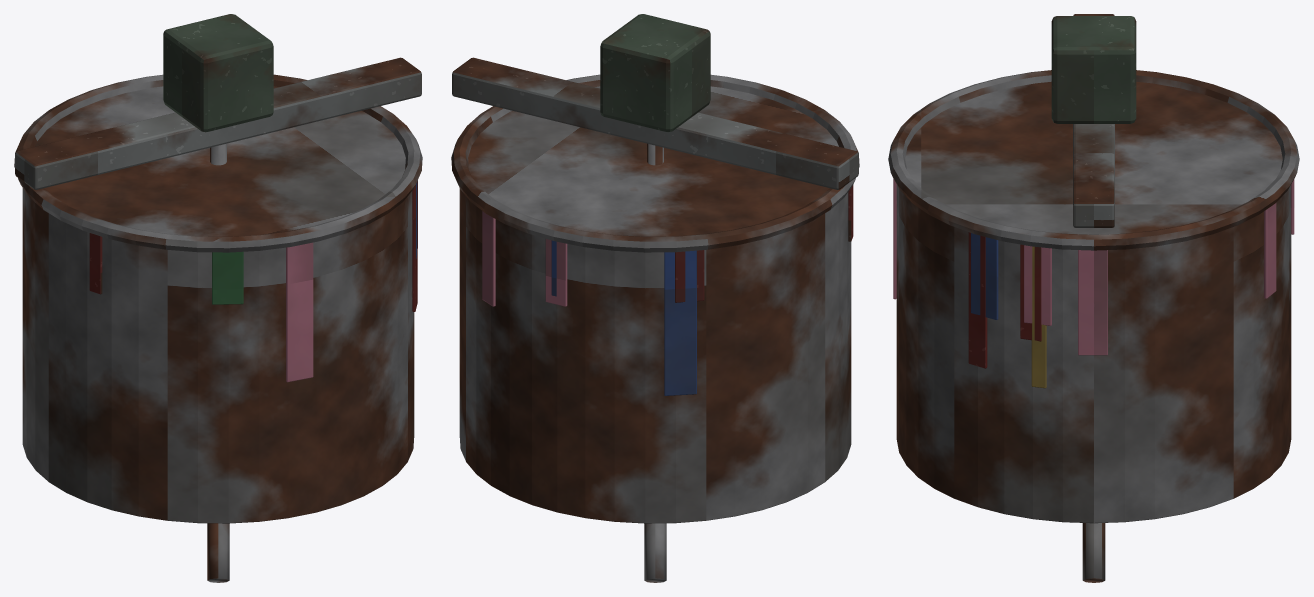
Rendered from F05_paint_vat.glb.
The picture shows the model from 3 angles, left to right: view 1: azimuth 30°, elevation 25°; view 2: azimuth 150°, elevation 25°; view 3: azimuth 270°, elevation 25°; orthographic projection.
Parts seen in each view (by area): view 1: F05_paint_vat; view 2: F05_paint_vat; view 3: F05_paint_vat.
Boxes of the visible parts, bbox=[...] form: F05_paint_vat: bbox=[14, 14, 422, 582]; F05_paint_vat: bbox=[451, 14, 859, 582]; F05_paint_vat: bbox=[888, 14, 1299, 582].
Bounding box in the file's own units: 1.32 × 1.5 × 1.2.
9 materials, 9 textured.
